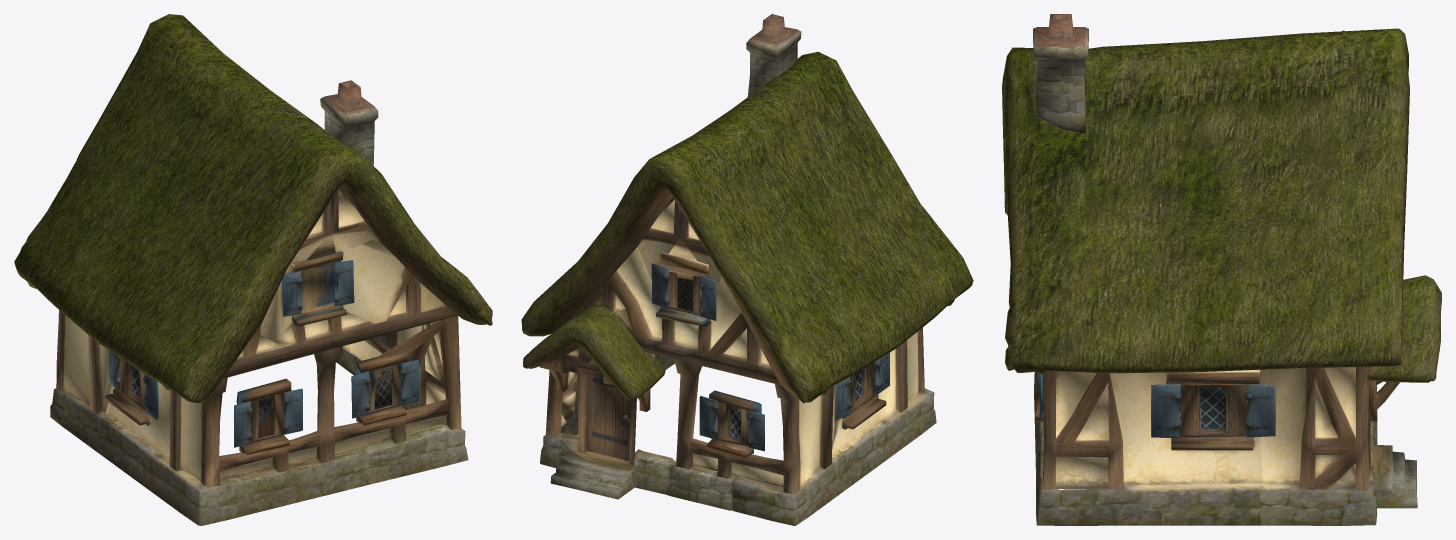
File: camelot-cottage.glb
3 renders of one model, left to right at view 1: azimuth 30°, elevation 25°; view 2: azimuth 150°, elevation 25°; view 3: azimuth 270°, elevation 25°, orthographic. The views are drawn at different scales.
Visible parts, largest first — view 1: tripo_node_f02055b2-e236-4412-ac00-a70158fb2020; view 2: tripo_node_f02055b2-e236-4412-ac00-a70158fb2020; view 3: tripo_node_f02055b2-e236-4412-ac00-a70158fb2020.
Part boxes in pixels (<box>): tripo_node_f02055b2-e236-4412-ac00-a70158fb2020: <box>14,14,492,525</box>; tripo_node_f02055b2-e236-4412-ac00-a70158fb2020: <box>521,14,973,525</box>; tripo_node_f02055b2-e236-4412-ac00-a70158fb2020: <box>1002,14,1441,525</box>.
Size of the model in its own units: 0.8613 by 0.998 by 0.8887.
1 material, 1 textured.
